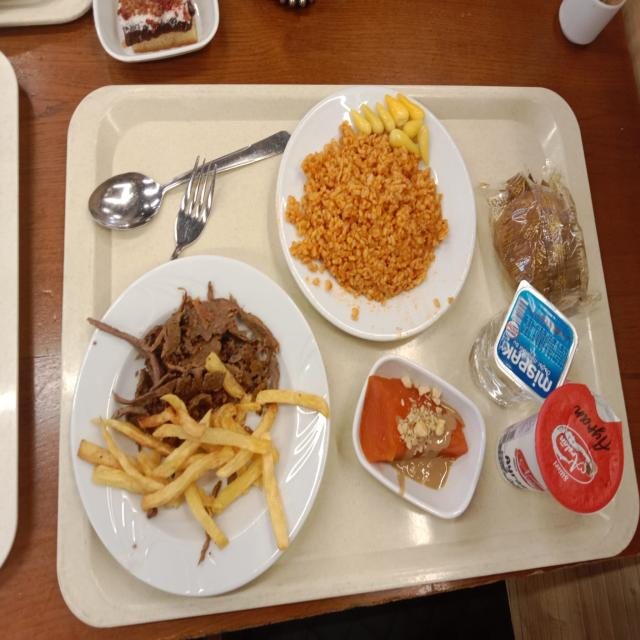ana_yemek: (68, 257, 324, 592), (310, 89, 476, 339)
yan_yemek: (350, 353, 482, 520), (92, 2, 221, 62)
